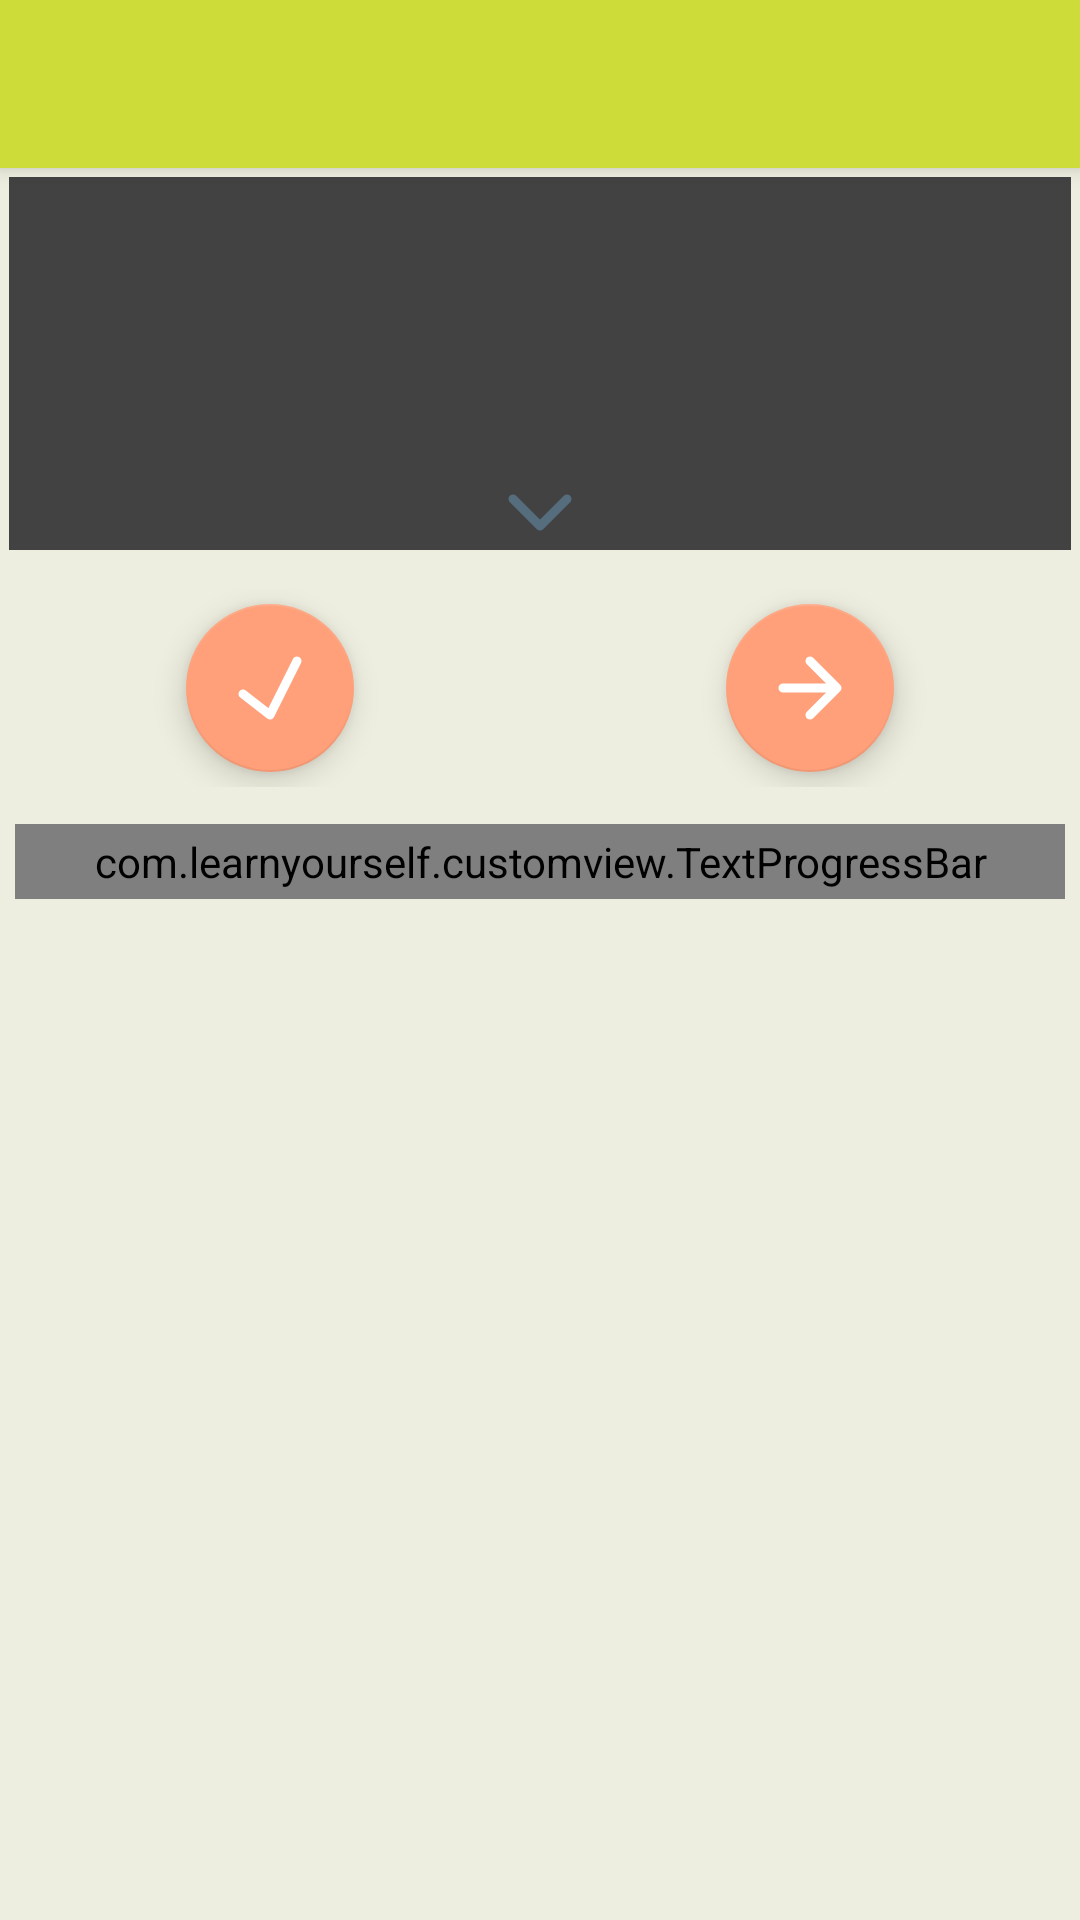

Screen size 1080*1920. Icon name, then its box in pixels as BBox(x1, y1, x2, y2):
down arrow: BBox(508, 494, 571, 531)
next: BBox(726, 604, 894, 772)
